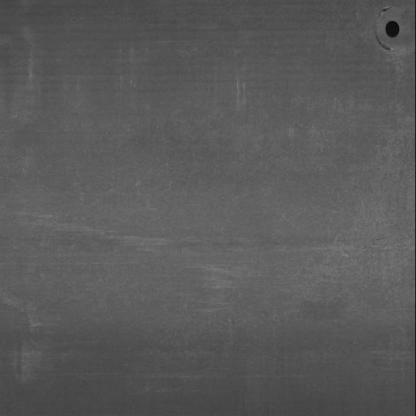punching_hole: (382, 20, 406, 40)
